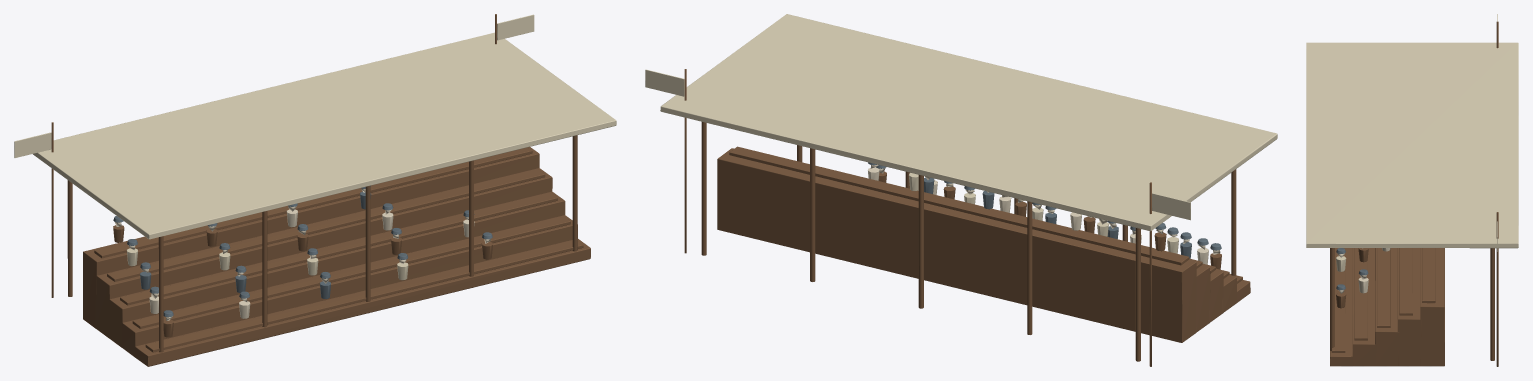
File: Prop_Race_Grandstand_01_LOD1.fbx
3 views of the same model, side by side, from view 1: azimuth 30°, elevation 25°; view 2: azimuth 150°, elevation 25°; view 3: azimuth 270°, elevation 25° (orthographic). The views are drawn at different scales.
Parts seen in each view (by area): view 1: Grandstand_Roof, Grandstand_Step_3, Grandstand_Step_4, Grandstand_Step_2, Grandstand_Step_1, Grandstand_Step_0, Grandstand_Seat_0, Grandstand_Seat_3, Grandstand_Seat_2, Grandstand_Seat_1, Grandstand_Seat_4, Grandstand_Post_8.4_-2.8 (+8 smaller); view 2: Grandstand_Roof, Grandstand_Step_4, Grandstand_Seat_4, Grandstand_Step_3, Grandstand_Post_0_3.6, Grandstand_Post_8.4_3.6, Grandstand_Post_-4.2_3.6, Grandstand_Post_-8.4_3.6, Grandstand_Post_4.2_3.6, Grandstand_Flag_R, Grandstand_Flag_L, Grandstand_Step_2 (+2 smaller); view 3: Grandstand_Roof, Grandstand_Step_4, Grandstand_Step_3, Grandstand_Step_2, Grandstand_Step_1, Grandstand_Step_0, Grandstand_Seat_2, Grandstand_Seat_1, Grandstand_Seat_3, Grandstand_Seat_0, Grandstand_Seat_4, Grandstand_Post_8.4_3.6 (+2 smaller).
Boxes of the visible parts, box(x1,y1,x2,y2) form: Grandstand_Roof: box(33, 32, 616, 239); Grandstand_Step_3: box(95, 168, 552, 337); Grandstand_Step_4: box(83, 147, 539, 328); Grandstand_Step_2: box(108, 191, 565, 347); Grandstand_Step_1: box(121, 215, 577, 356); Grandstand_Step_0: box(134, 239, 590, 366); Grandstand_Seat_0: box(145, 240, 583, 352); Grandstand_Seat_3: box(107, 169, 545, 281); Grandstand_Seat_2: box(120, 192, 557, 305); Grandstand_Seat_1: box(132, 216, 570, 328); Grandstand_Seat_4: box(94, 147, 532, 258); Grandstand_Post_8.4_-2.8: box(572, 135, 577, 251); Grandstand_Roof: box(660, 14, 1277, 231); Grandstand_Step_4: box(717, 148, 1196, 342); Grandstand_Seat_4: box(729, 146, 1189, 265); Grandstand_Step_3: box(1196, 264, 1210, 332); Grandstand_Post_0_3.6: box(918, 175, 923, 308); Grandstand_Post_8.4_3.6: box(701, 122, 706, 255); Grandstand_Post_-4.2_3.6: box(1027, 201, 1032, 334); Grandstand_Post_-8.4_3.6: box(1135, 228, 1140, 361); Grandstand_Post_4.2_3.6: box(810, 148, 815, 281); Grandstand_Flag_R: box(645, 69, 684, 96); Grandstand_Flag_L: box(1152, 193, 1190, 220); Grandstand_Step_2: box(1209, 270, 1223, 322); Grandstand_Roof: box(1306, 42, 1518, 248); Grandstand_Step_4: box(1420, 248, 1444, 366); Grandstand_Step_3: box(1397, 248, 1421, 366); Grandstand_Step_2: box(1375, 248, 1399, 366); Grandstand_Step_1: box(1352, 248, 1376, 366); Grandstand_Step_0: box(1330, 248, 1352, 366); Grandstand_Seat_2: box(1377, 248, 1390, 327); Grandstand_Seat_1: box(1354, 248, 1367, 340); Grandstand_Seat_3: box(1399, 248, 1412, 315); Grandstand_Seat_0: box(1331, 248, 1345, 352); Grandstand_Seat_4: box(1422, 248, 1435, 303); Grandstand_Post_8.4_3.6: box(1490, 248, 1494, 360).
Size of the model in its own units: 2110 by 680 by 849.
